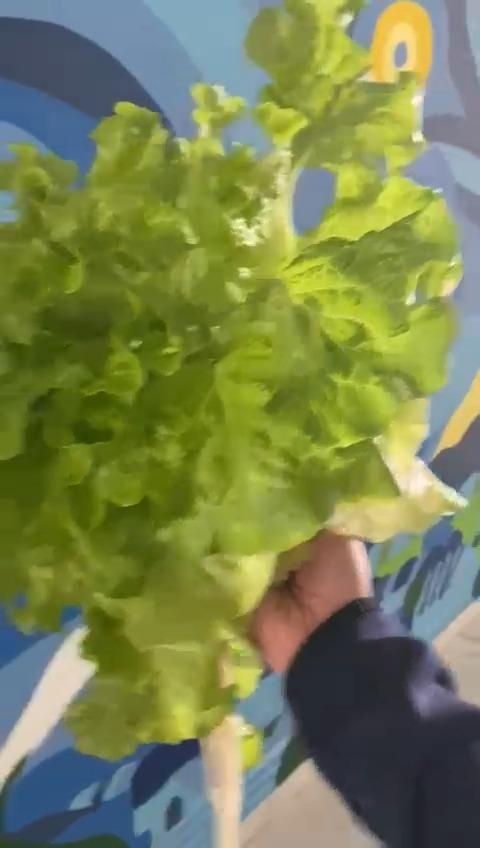Healthy: (0, 0, 470, 762)
